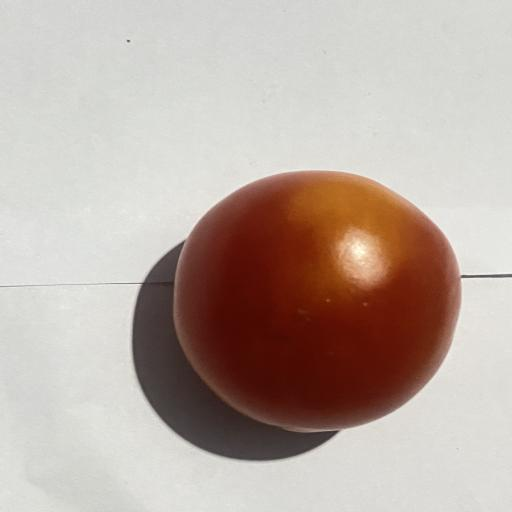ripe: (174, 171, 461, 431)
